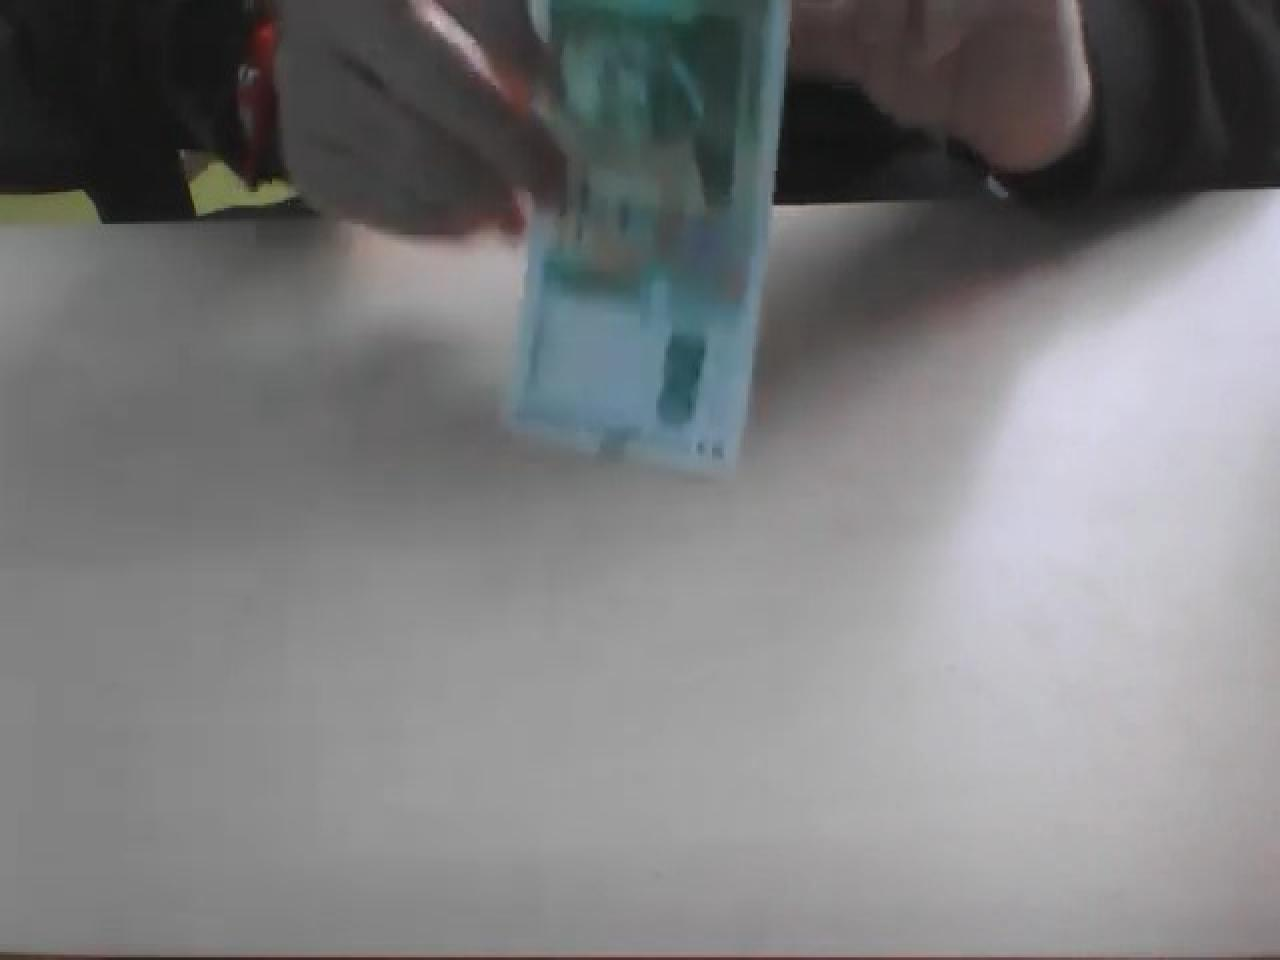100leva: (502, 0, 796, 483)
